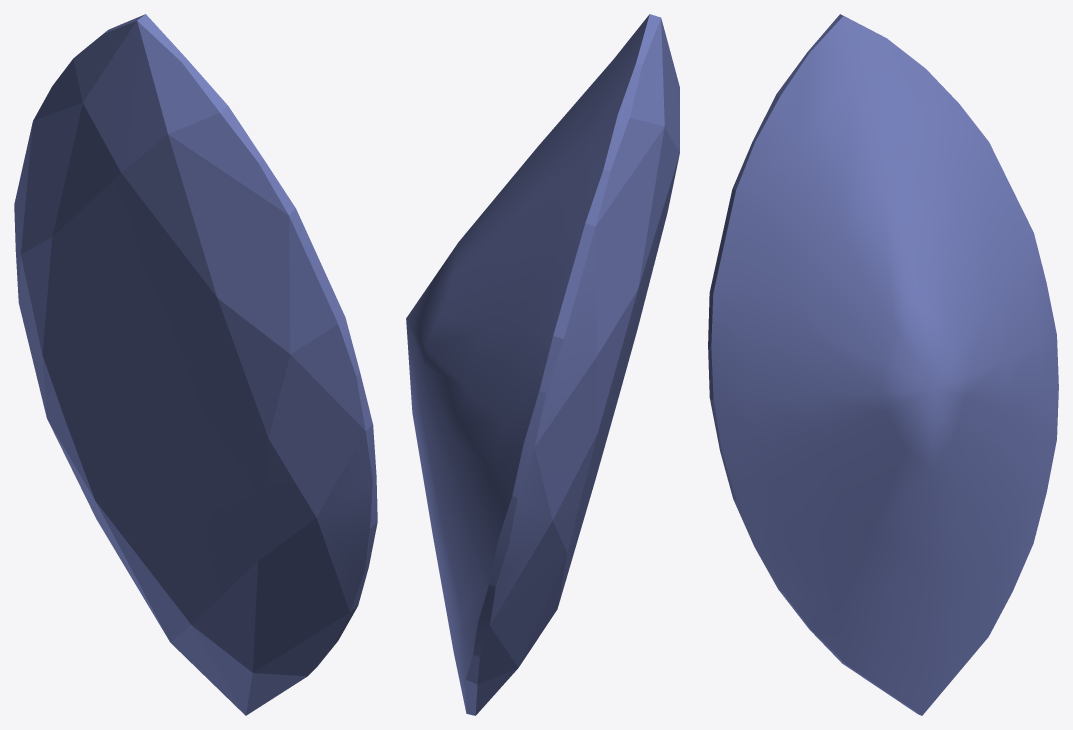
The model's file is TL4_8shapes_Marquise_Classic_Stone.001 3.glb.
The picture shows the model from 3 angles, left to right: view 1: azimuth 30°, elevation 25°; view 2: azimuth 150°, elevation 25°; view 3: azimuth 270°, elevation 25°; orthographic projection. The views are drawn at different scales.
Visible parts, largest first — view 1: TL4_8shapes_Marquise_Classic_Stone.001; view 2: TL4_8shapes_Marquise_Classic_Stone.001; view 3: TL4_8shapes_Marquise_Classic_Stone.001.
Part boxes in pixels (<box>): TL4_8shapes_Marquise_Classic_Stone.001: <box>14,14,377,715</box>; TL4_8shapes_Marquise_Classic_Stone.001: <box>406,14,679,715</box>; TL4_8shapes_Marquise_Classic_Stone.001: <box>708,14,1058,715</box>.
Bounding box in the file's own units: 0.2196 × 0.6393 × 0.3179.
